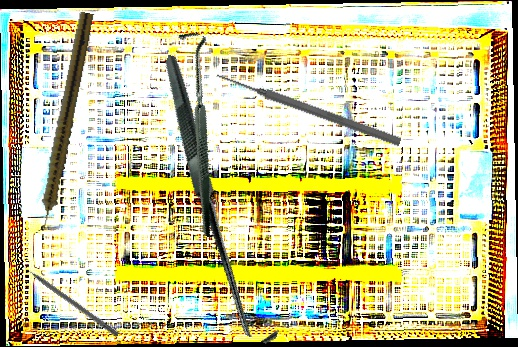Handpiece: (32, 10, 95, 234)
Hook Surgical: (77, 54, 364, 347), (106, 26, 286, 238)
Pusher: (214, 69, 403, 148), (16, 259, 121, 338)
